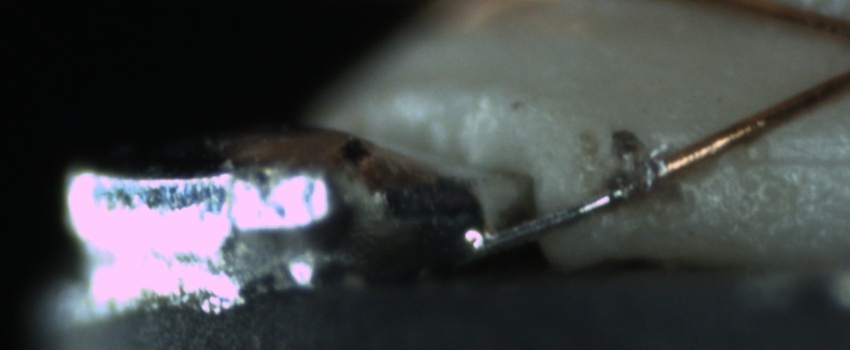DL: (713, 132, 850, 190)
TS: (478, 164, 660, 253)
TTCW: (469, 130, 726, 257)
